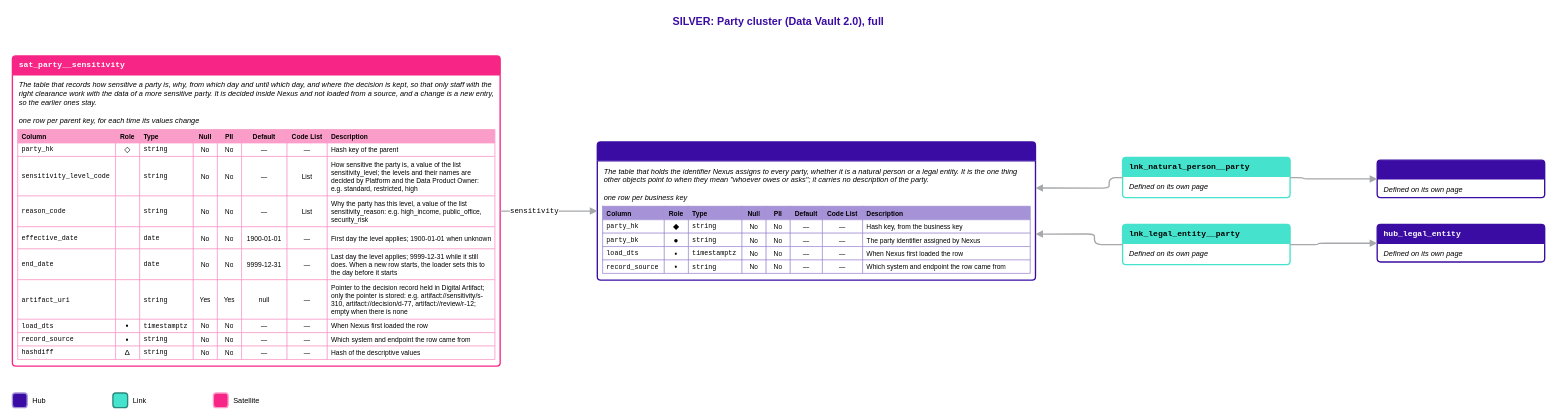
This 1556x419 diagram has some shape labels left out. The box of each missing label's shape, as (x1, y1, x2, y2) in pixels:
hub_natural_person: (1376, 159, 1545, 198)
hub_party: (596, 141, 1036, 280)
